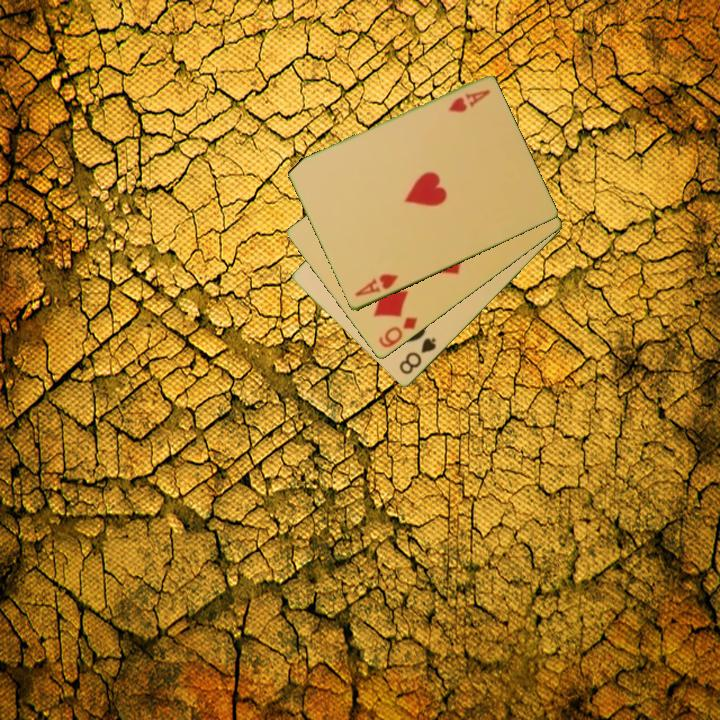6d: (375, 314, 421, 351)
8s: (396, 334, 439, 378)
Ah: (351, 270, 401, 300), (445, 86, 493, 115)
